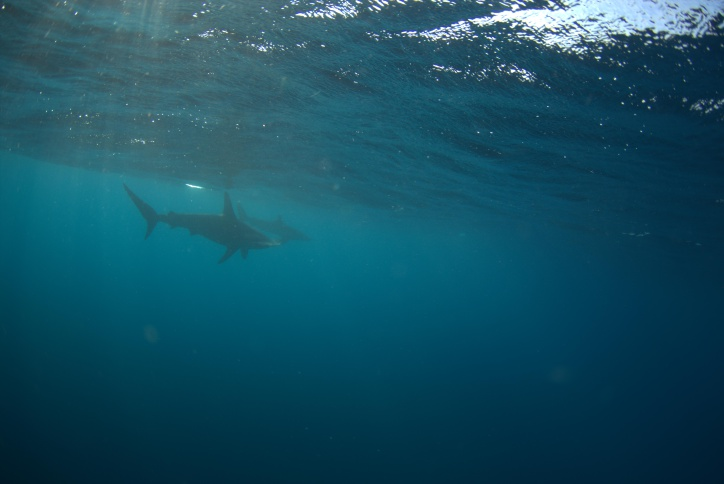Hammer: (108, 175, 397, 306)
